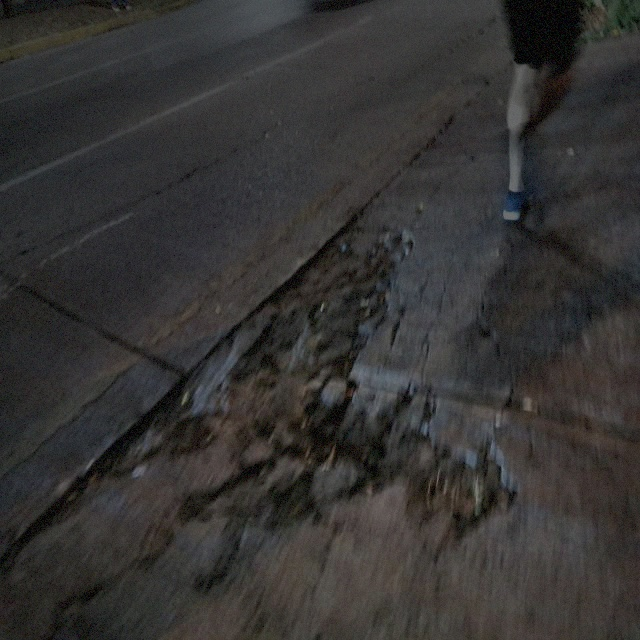pothole: (141, 220, 418, 548), (389, 396, 524, 548)
